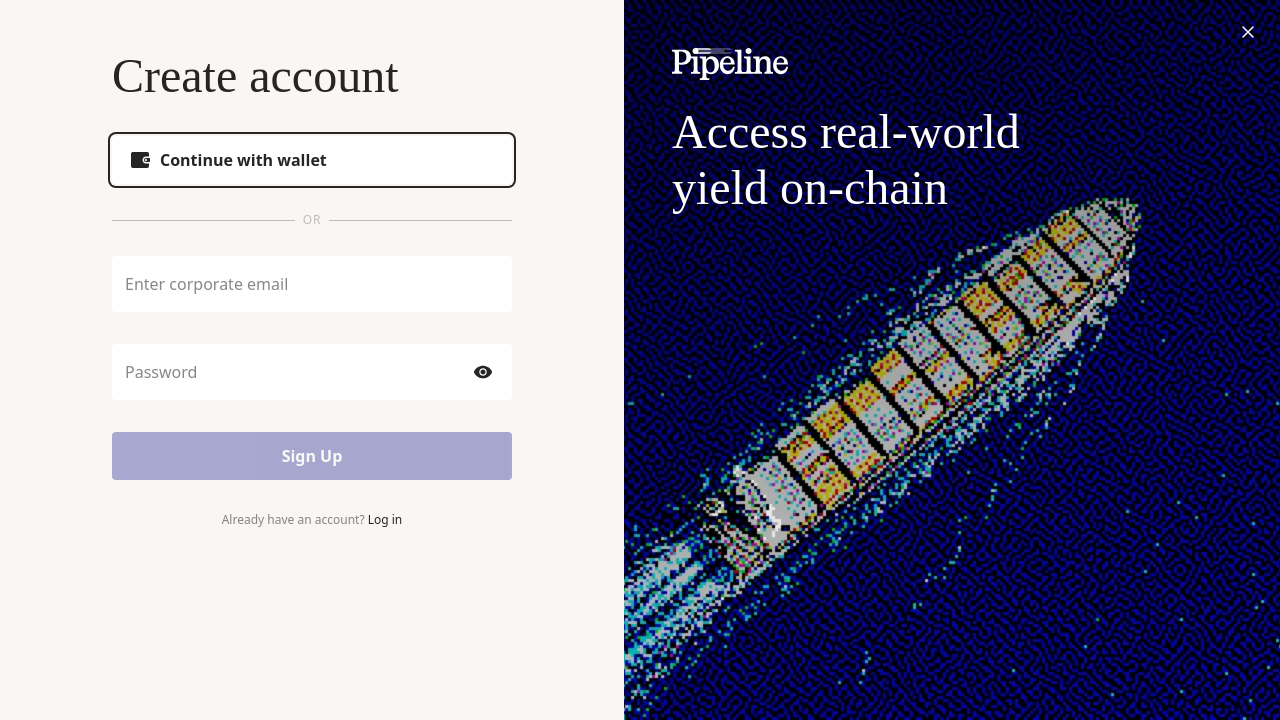
Scenario: CreateAccountModal (#1249) › the error clears live once the value satisfies the policy after being blurred once
Step 1. Type "weak" into the password field with placeholder "Password" → [294, 372], box left=125, top=361, right=463, bottom=383
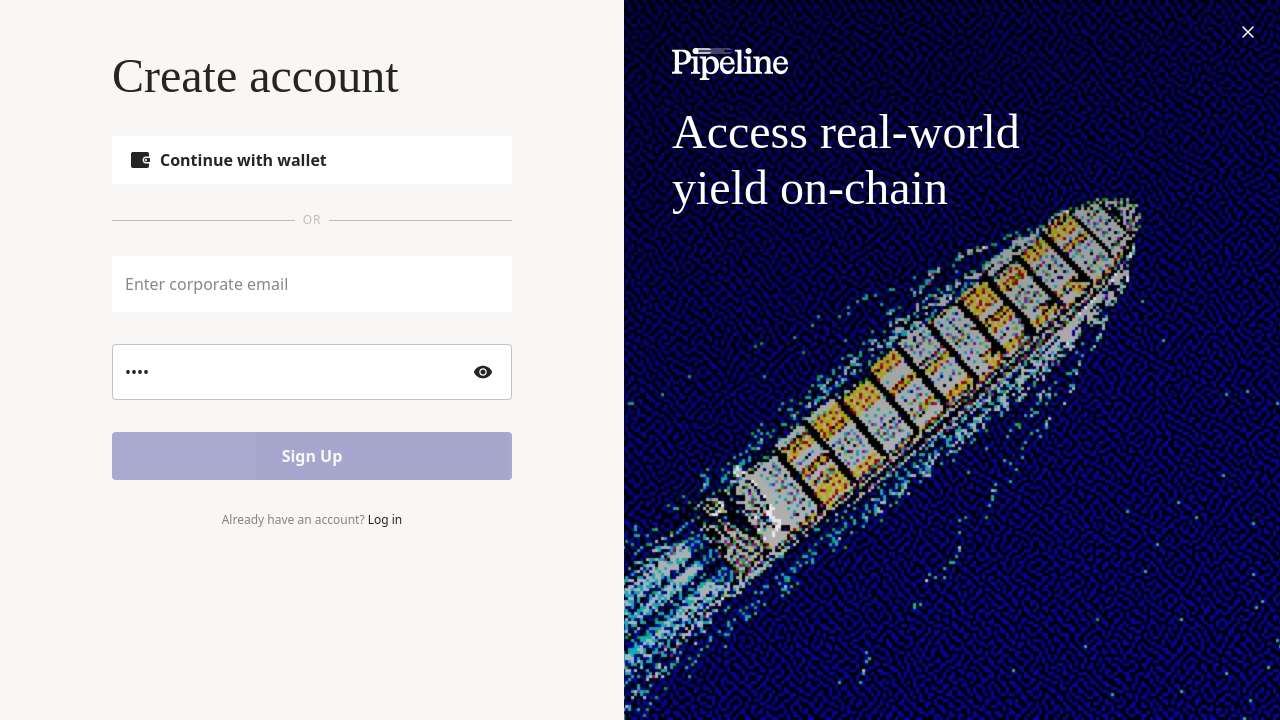
Step 2. Leave the password field with placeholder "Password", box left=125, top=361, right=463, bottom=383
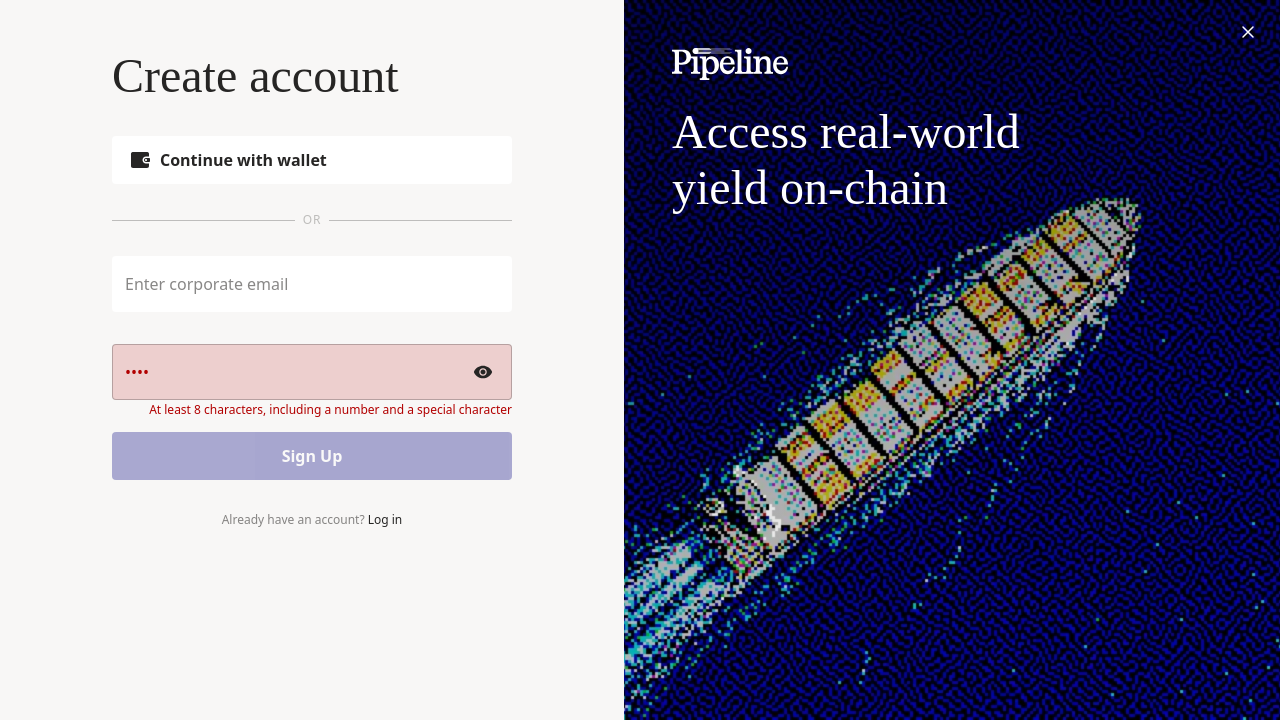
Now the text "At least 8 characters, including a number and a special character" is shown, box left=149, top=402, right=512, bottom=418
Step 3. Type "P@ssw0rd!" into the password field with placeholder "Password" → [294, 372], box left=125, top=361, right=463, bottom=383
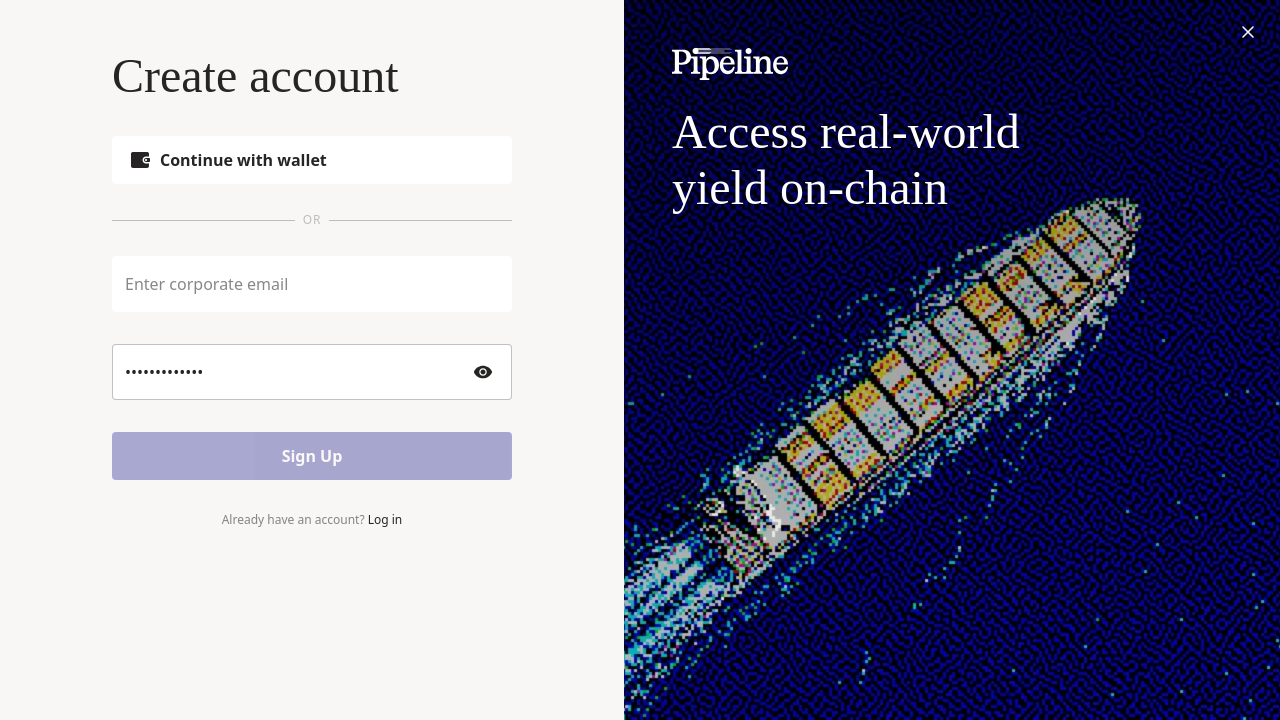
Now the text "At least 8 characters, including a number and a special character" is gone
